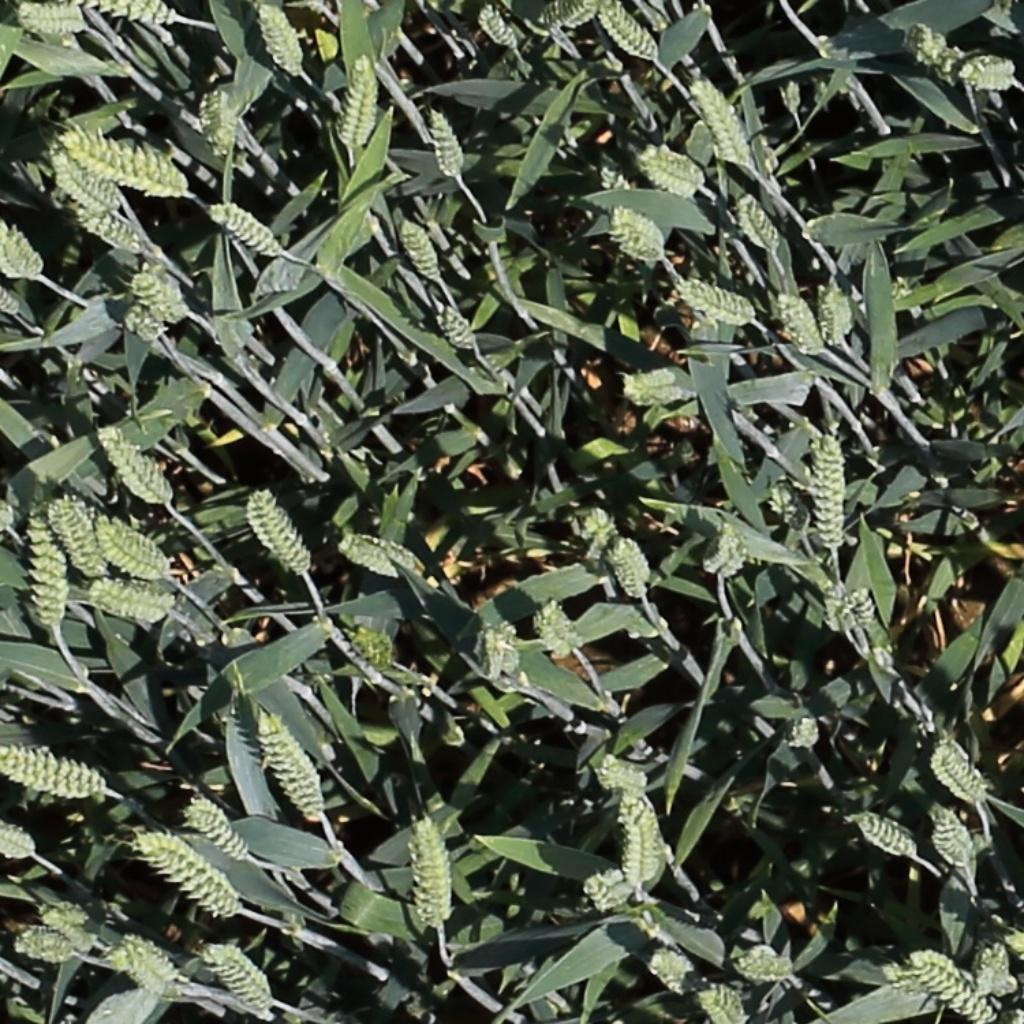0-0: (127, 827, 248, 924), (60, 131, 194, 201), (256, 709, 324, 824), (909, 944, 996, 1024), (95, 423, 173, 506), (690, 72, 756, 169), (247, 486, 315, 578), (616, 786, 669, 895), (0, 742, 103, 797), (47, 491, 106, 585), (619, 357, 709, 414), (27, 503, 64, 632), (49, 148, 121, 213), (810, 428, 846, 555), (202, 943, 271, 1007), (252, 0, 307, 80), (187, 801, 252, 866), (416, 815, 451, 932), (775, 285, 830, 359), (597, 0, 660, 64), (64, 197, 141, 249), (210, 202, 285, 255), (122, 935, 187, 996), (928, 801, 981, 875), (931, 741, 988, 809), (96, 524, 166, 577), (397, 211, 446, 286), (337, 615, 397, 674), (341, 50, 375, 154), (735, 187, 786, 255), (678, 281, 759, 323), (425, 99, 466, 181), (608, 532, 653, 606), (0, 216, 47, 284), (88, 582, 174, 618), (14, 926, 81, 972), (610, 206, 667, 260), (432, 296, 483, 356), (854, 816, 921, 861), (768, 479, 817, 539), (638, 148, 705, 191), (707, 517, 749, 584), (481, 616, 521, 686), (16, 0, 91, 37), (537, 596, 585, 653), (580, 864, 635, 912), (339, 536, 401, 578), (476, 1, 525, 54), (82, 0, 176, 27), (696, 980, 750, 1024), (203, 79, 232, 157), (584, 503, 617, 569), (737, 943, 795, 980), (848, 579, 889, 630), (599, 757, 651, 797), (823, 277, 851, 350), (649, 951, 694, 995), (817, 579, 853, 634), (541, 0, 601, 30), (120, 303, 167, 338), (47, 902, 91, 936), (780, 70, 808, 121), (0, 819, 36, 858), (790, 712, 823, 753), (0, 267, 21, 315), (0, 488, 15, 529), (293, 0, 325, 16)
